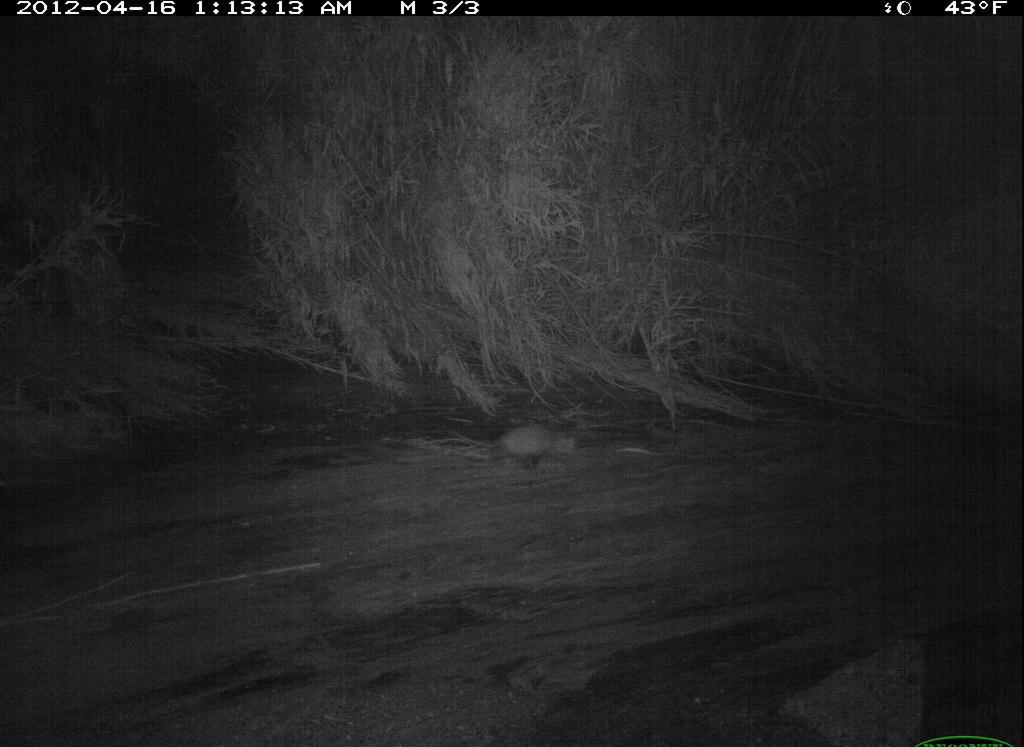opossum: (446, 421, 586, 475)
